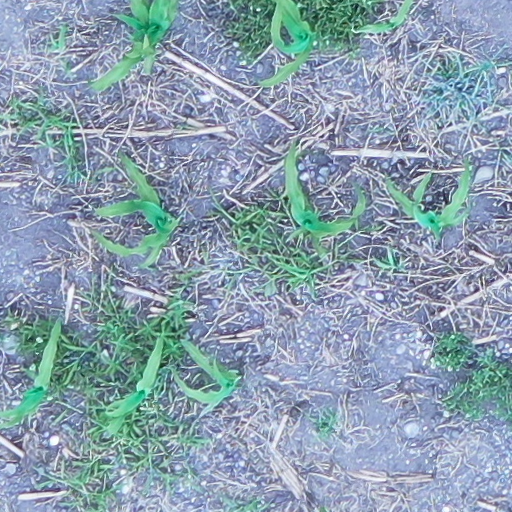planta: (88, 150, 180, 269), (283, 135, 367, 243), (384, 158, 471, 243), (103, 334, 164, 437), (169, 337, 239, 403)
